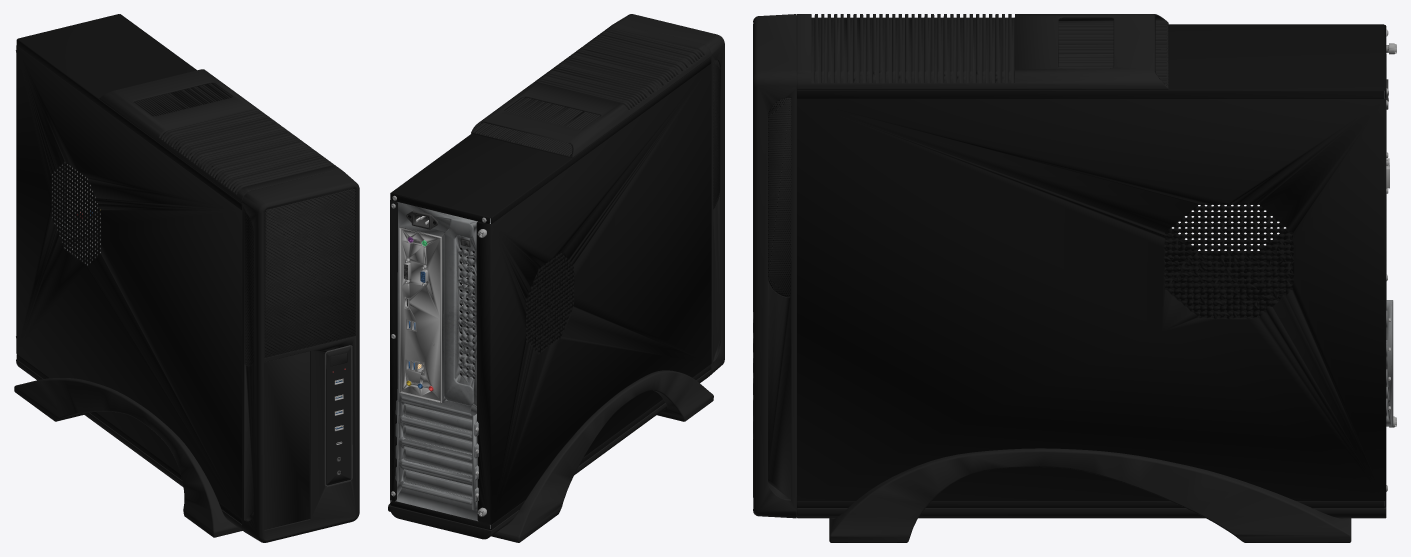
The model's file is computer_desktop_tower_a01.glb.
The picture shows the model from 3 angles, left to right: view 1: azimuth 30°, elevation 25°; view 2: azimuth 150°, elevation 25°; view 3: azimuth 270°, elevation 25°; orthographic projection. The views are drawn at different scales.
Parts seen in each view (by area): view 1: sm_computer_desktop_a01_mesh_00; view 2: sm_computer_desktop_a01_mesh_00; view 3: sm_computer_desktop_a01_mesh_00.
Part boxes in pixels (x1,y1,x2,y2): sm_computer_desktop_a01_mesh_00: (14,14,359,542); sm_computer_desktop_a01_mesh_00: (388,14,724,542); sm_computer_desktop_a01_mesh_00: (753,14,1396,542).
Size of the model in its own units: 0.197 by 0.4895 by 0.6235.
14 materials, 7 textured.
